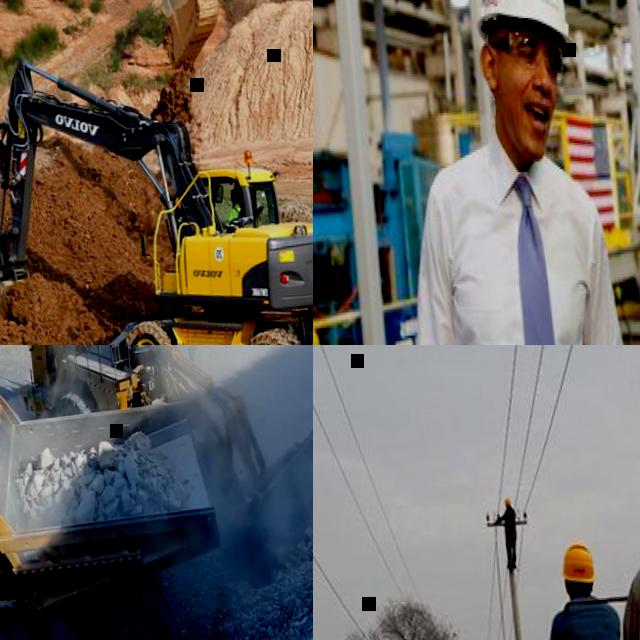Hardhat: (468, 0, 579, 61), (557, 539, 597, 584), (502, 496, 511, 506)
NO-Hardhat: (228, 190, 238, 200)
NO-Mask: (493, 70, 558, 164)
NO-Safety Vest: (425, 140, 612, 345), (559, 598, 624, 640), (503, 508, 514, 530)
Person: (375, 0, 639, 345), (536, 538, 640, 640), (496, 495, 519, 571), (221, 190, 244, 227)
Safety Vest: (225, 204, 243, 226)
vehicle: (0, 36, 313, 345), (3, 345, 313, 597), (0, 374, 235, 640), (0, 0, 230, 193)
